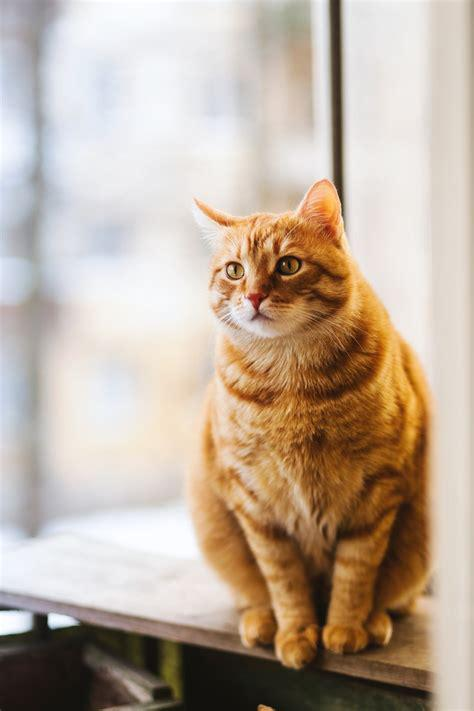cat: (190, 178, 431, 667)
